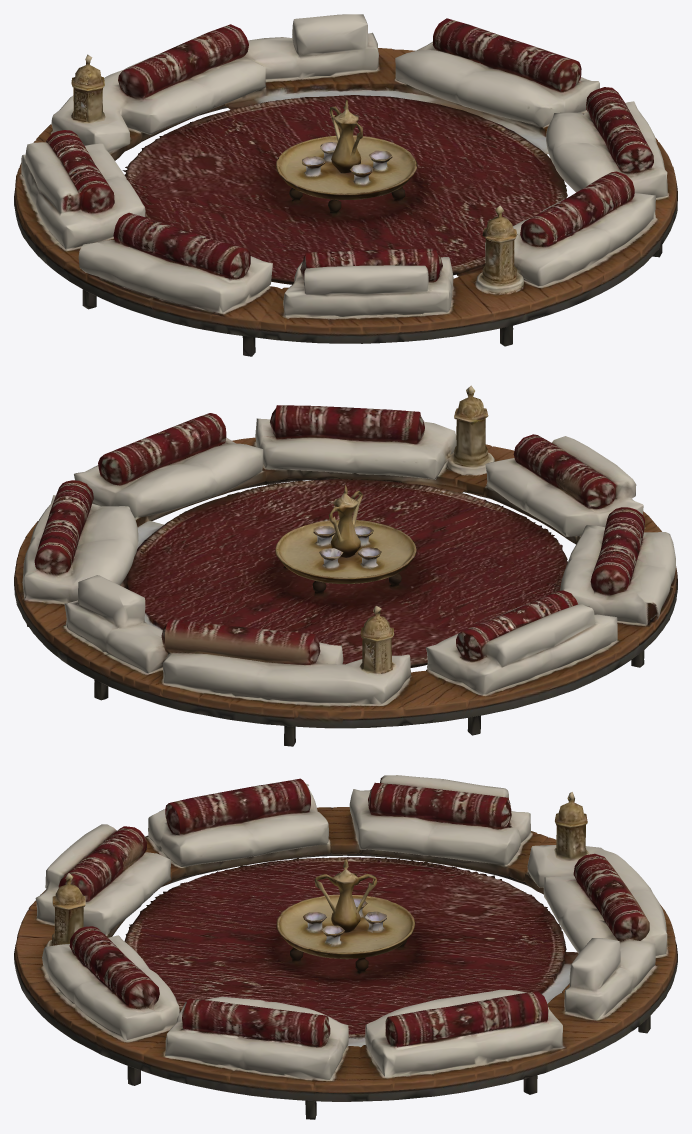
The model's file is majlis.glb.
The picture shows the model from 3 angles, top to bottom: view 1: azimuth 30°, elevation 25°; view 2: azimuth 150°, elevation 25°; view 3: azimuth 270°, elevation 25°; orthographic projection.
Visible parts, largest first — view 1: tripo_node_ab980b30-34aa-4ec0-a63f-fe527f6721de; view 2: tripo_node_ab980b30-34aa-4ec0-a63f-fe527f6721de; view 3: tripo_node_ab980b30-34aa-4ec0-a63f-fe527f6721de.
Part boxes in pixels (box(x1,y1,x2,y2)): tripo_node_ab980b30-34aa-4ec0-a63f-fe527f6721de: box(14, 14, 677, 356); tripo_node_ab980b30-34aa-4ec0-a63f-fe527f6721de: box(14, 385, 677, 746); tripo_node_ab980b30-34aa-4ec0-a63f-fe527f6721de: box(14, 775, 677, 1119).
Size of the model in its own units: 0.9992 by 0.21 by 1.
1 material, 1 textured.
